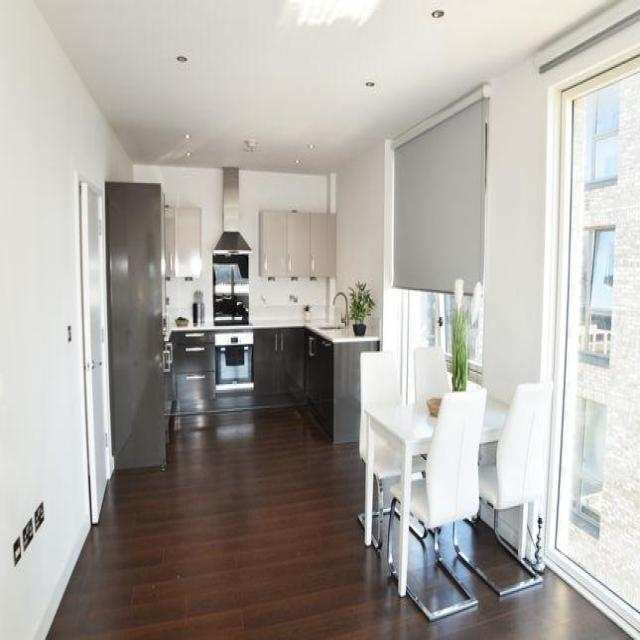Wall: (49, 407, 624, 639), (36, 1, 614, 171), (0, 0, 132, 637), (484, 22, 640, 402), (240, 141, 388, 316), (239, 172, 335, 316), (134, 166, 222, 323), (239, 172, 335, 312), (0, 471, 26, 638), (459, 521, 524, 584), (409, 536, 462, 608), (395, 519, 397, 554)
